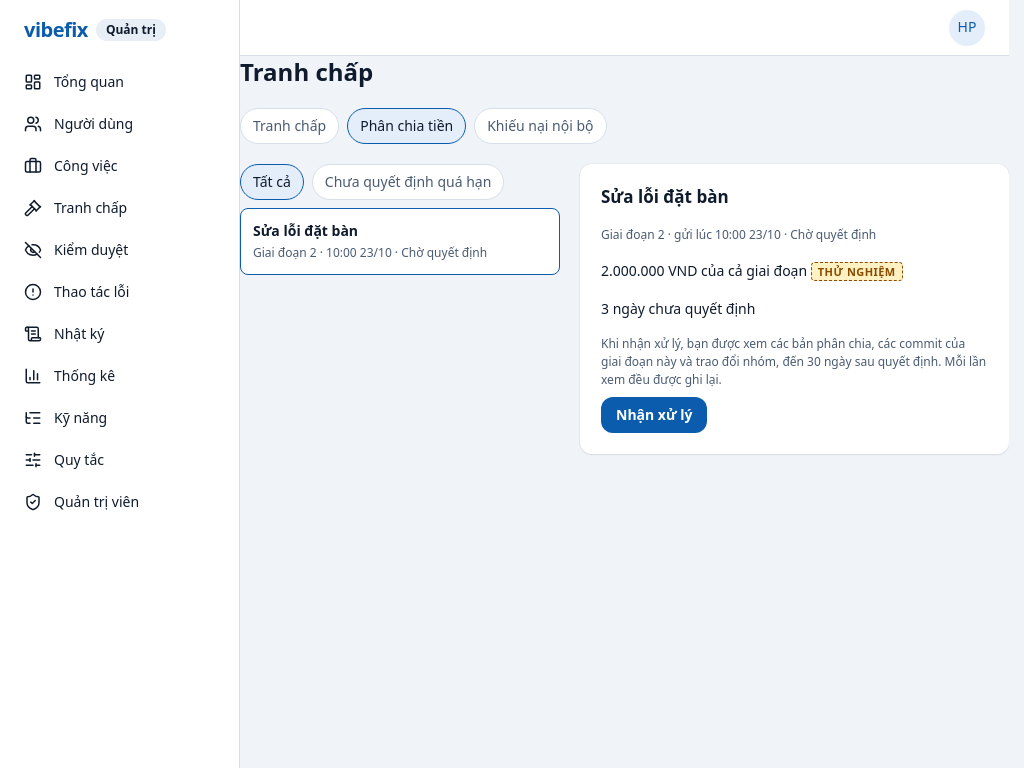
Test: ADM-4 "Phân chia tiền" (FR-84, AD-40, UX-DR107) › names no account or signal when an Administrator cannot take a case
This screenshot has width=1024, height=768.
Click the button "Nhận xử lý" at (654, 415), box [601,397,708,433]
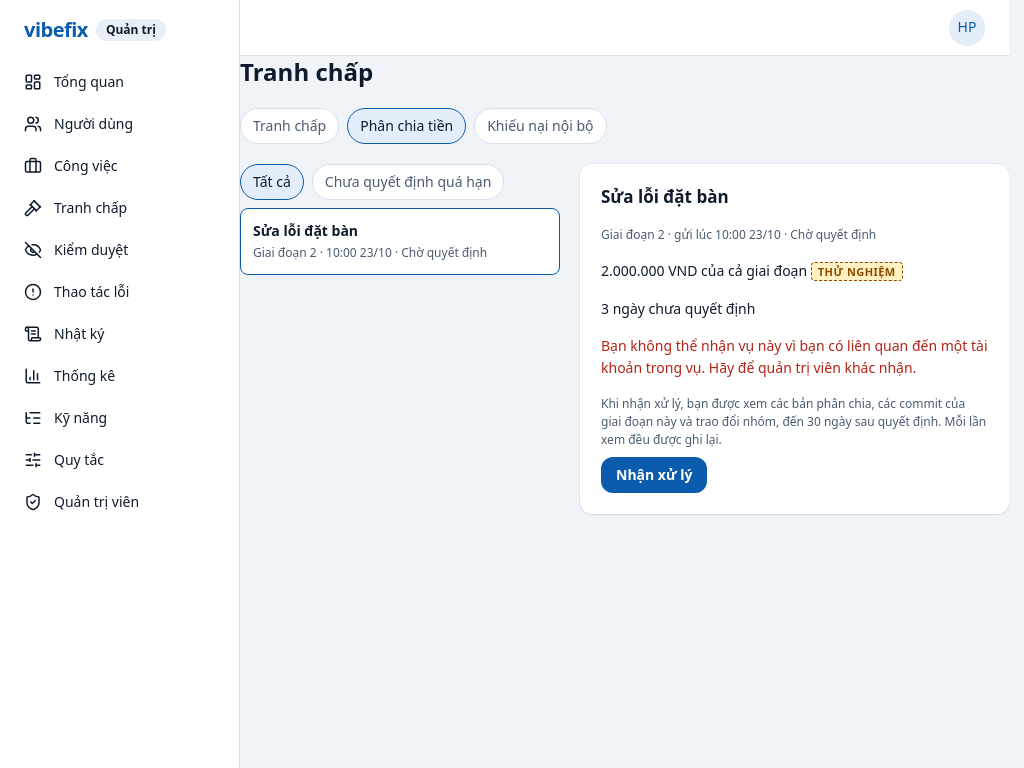
Expected: the message shows "Bạn không thể nhận vụ này vì bạn có liên quan đến một tài khoản trong vụ. Hãy để quản trị viên khác nhận.", [601,336,988,377]
